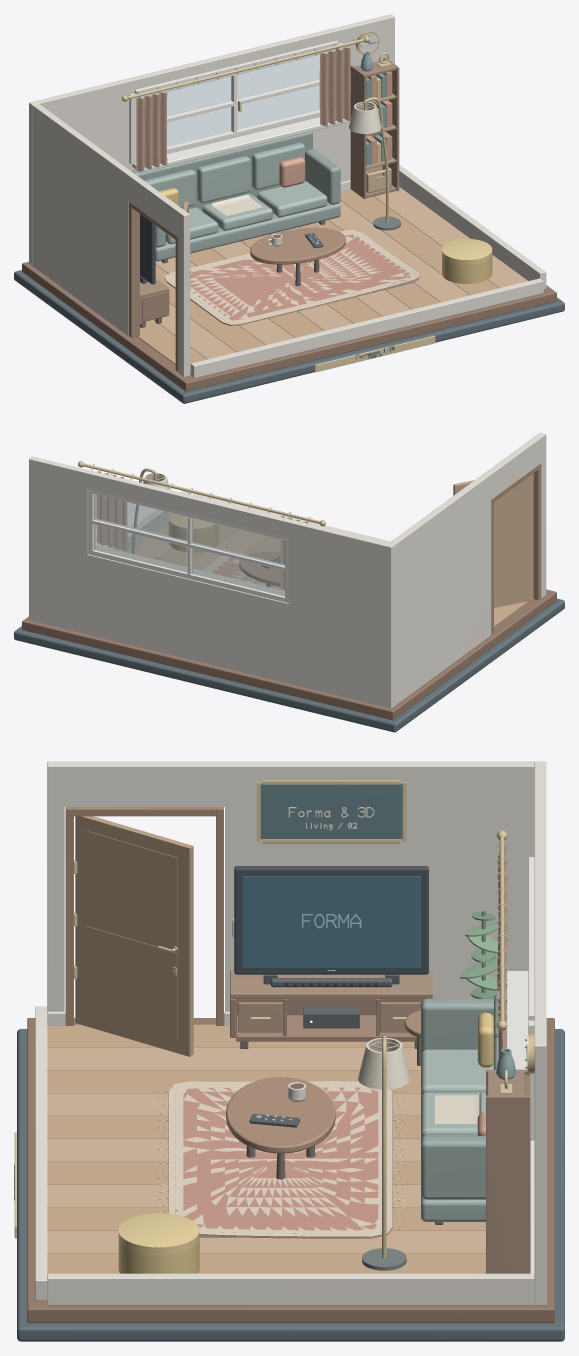
File: living_room_diorama.glb
3 views of the same model, one above another, from view 1: azimuth 30°, elevation 25°; view 2: azimuth 150°, elevation 25°; view 3: azimuth 270°, elevation 25° (orthographic). The views are drawn at different scales.
Visible parts, largest first — view 1: wall_left, wall_back, living_rug, floor_substrate, display_base, wall_front_cutaway, wall_right_cutaway, floorboards_011, sofa_base, floorboards_012, floorboards_010, coffee (+46 smaller); view 2: wall_back, wall_left, display_base, floor_substrate, entry.leaf, window_glass_left_high, window_glass_left_low, window_glass_right_high, window_glass_right_low, window_rail_bottom, curtain_right, window_crossbar (+15 smaller); view 3: wall_left, living_rug, display_base, tv_screen, wall_right_cutaway, floor_substrate, entry.leaf, entry.leaf.panel_01, entry.leaf.panel_02, bookcase_side_r, art_back, floorboards_002 (+41 smaller).
Boxes of the visible parts, bbox=[...] form: wall_left: bbox=[32, 104, 190, 376]; wall_back: bbox=[29, 14, 394, 265]; living_rug: bbox=[164, 234, 420, 325]; floor_substrate: bbox=[22, 261, 556, 391]; display_base: bbox=[14, 270, 564, 403]; wall_front_cutaway: bbox=[190, 278, 543, 378]; wall_right_cutaway: bbox=[399, 165, 546, 289]; floorboards_011: bbox=[340, 189, 498, 295]; sofa_base: bbox=[155, 202, 340, 261]; floorboards_012: bbox=[374, 187, 527, 287]; floorboards_010: bbox=[328, 201, 469, 302]; coffee: bbox=[250, 227, 345, 264]; wall_back: bbox=[29, 456, 394, 708]; wall_left: bbox=[389, 432, 546, 705]; display_base: bbox=[14, 598, 564, 732]; floor_substrate: bbox=[22, 589, 556, 720]; entry.leaf: bbox=[453, 473, 533, 607]; window_glass_left_high: bbox=[191, 518, 284, 565]; window_glass_left_low: bbox=[191, 548, 284, 596]; window_glass_right_high: bbox=[94, 494, 187, 542]; window_glass_right_low: bbox=[94, 524, 187, 572]; window_rail_bottom: bbox=[92, 549, 284, 602]; curtain_right: bbox=[97, 471, 127, 550]; window_crossbar: bbox=[92, 519, 284, 570]; wall_left: bbox=[47, 761, 534, 1011]; living_rug: bbox=[175, 1087, 392, 1238]; display_base: bbox=[17, 1029, 564, 1341]; tv_screen: bbox=[242, 876, 420, 968]; wall_right_cutaway: bbox=[47, 1273, 534, 1305]; floor_substrate: bbox=[27, 1018, 554, 1323]; entry.leaf: bbox=[75, 816, 193, 1056]; entry.leaf.panel_01: bbox=[86, 831, 177, 945]; entry.leaf.panel_02: bbox=[86, 926, 177, 1040]; bookcase_side_r: bbox=[486, 1095, 530, 1273]; art_back: bbox=[260, 783, 402, 839]; floorboards_002: bbox=[47, 1047, 420, 1070].
Bounding box in the file's own units: 350 × 157 × 272.
